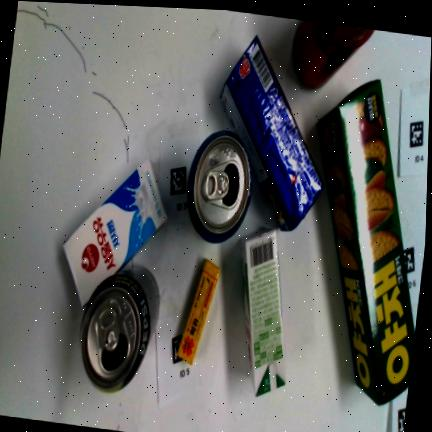can_pepsi: (187, 132, 252, 242)
can_pepsi_zero: (81, 266, 159, 390)
cracker_ace: (221, 36, 323, 230)
cracker_vege: (318, 80, 415, 404)
gum_yellow: (177, 260, 220, 363)
milk_blue: (63, 159, 167, 305)
milk_green: (242, 230, 285, 395)
